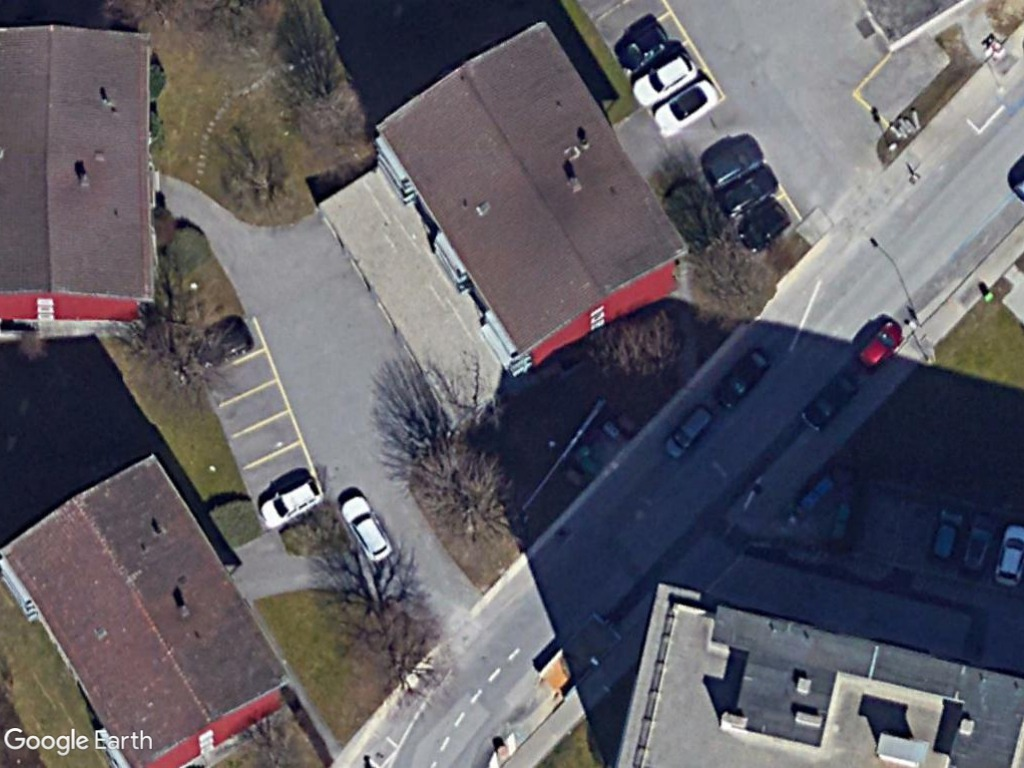car: (653, 79, 721, 139), (339, 495, 395, 564), (633, 53, 699, 108), (660, 403, 719, 462), (258, 478, 321, 529), (851, 315, 904, 373), (702, 141, 764, 190), (927, 506, 966, 570), (990, 524, 1024, 584)
